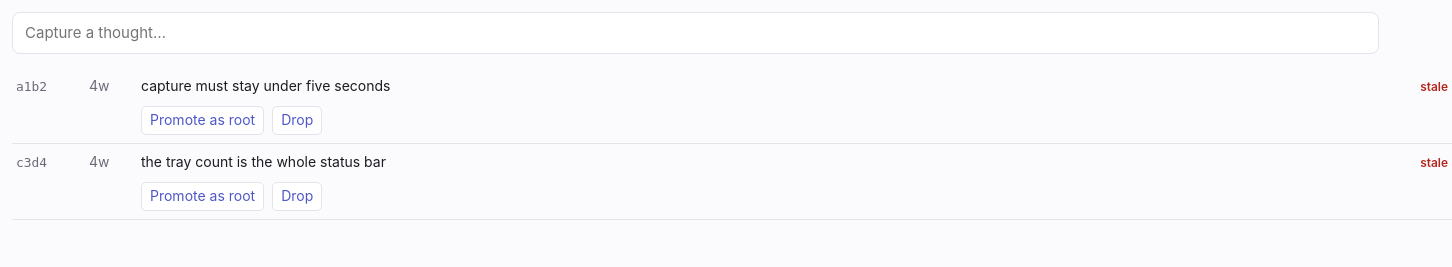
Test: InboxView › keeps a failed entry in place with its error and allows a retry
The image size is (1452, 267).
Expected: the text "a1b2" is shown, top-left (16, 79), bottom-right (47, 94)
Click the button "Drop" below "a1b2".
click(297, 121)  # box top-left (272, 106), bottom-right (322, 135)
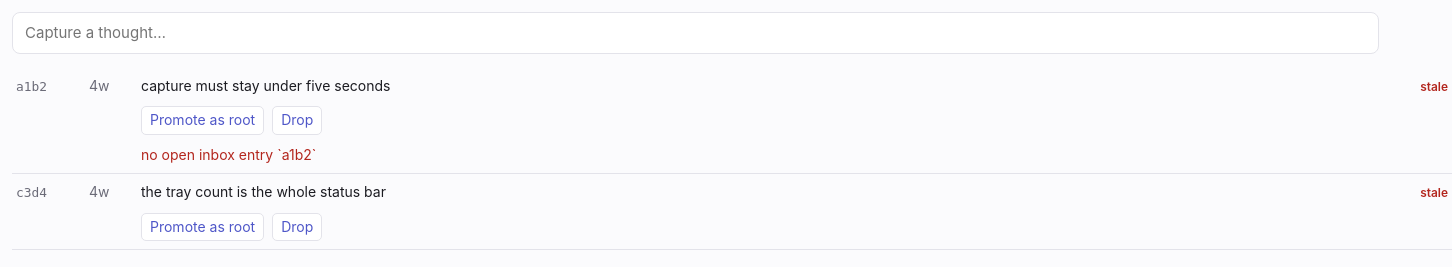
Expected: the message does not show "[object Object]", top-left (141, 146), bottom-right (316, 163)
Result: the message reads "no open inbox entry `a1b2`" at top-left (141, 146), bottom-right (316, 163)
Click the button "Drop" below "capture must stay under five seconds".
click(297, 121)  # box top-left (272, 106), bottom-right (322, 135)
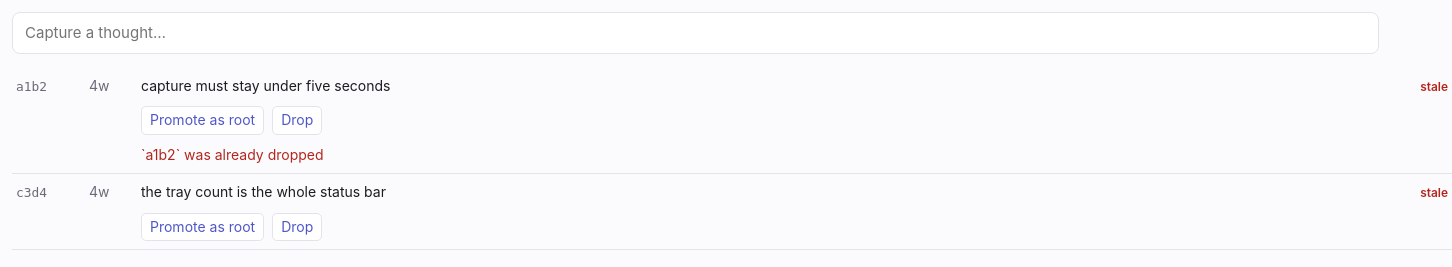
Result: the message reads "`a1b2` was already dropped" at top-left (141, 146), bottom-right (324, 163)
